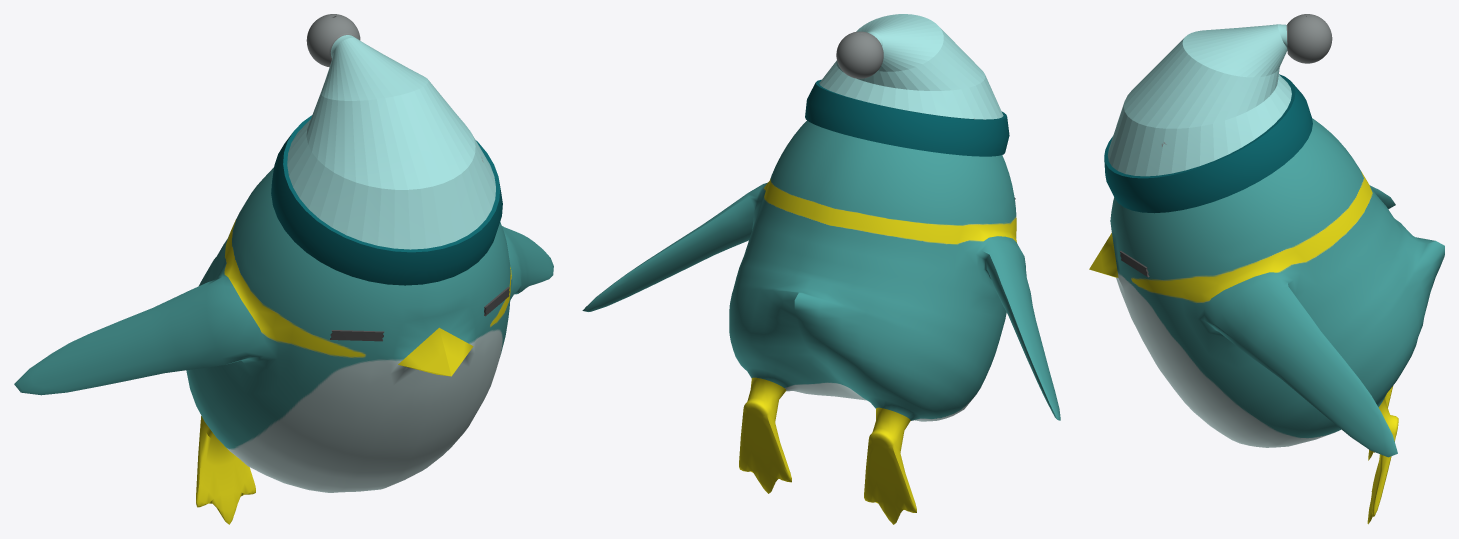
File: penguin_blue_blink_08f.fbx
3 renders of one model, left to right at view 1: azimuth 30°, elevation 25°; view 2: azimuth 150°, elevation 25°; view 3: azimuth 270°, elevation 25°, orthographic. The views are drawn at different scales.
Parts seen in each view (by area): view 1: ppp8, bousi, ai; view 2: ppp8, bousi; view 3: ppp8, bousi.
Boxes of the visible parts, box(x1,y1,x2,y2) form: ppp8: box(14, 167, 553, 524); bousi: box(271, 14, 502, 285); ai: box(330, 287, 509, 341); ppp8: box(582, 120, 1060, 524); bousi: box(805, 14, 1009, 156); ppp8: box(1089, 118, 1444, 524); bousi: box(1104, 14, 1332, 213).
Bounding box in the file's own units: 25.35 × 23.23 × 15.72.
Materials: 1 (1 with a texture image).
